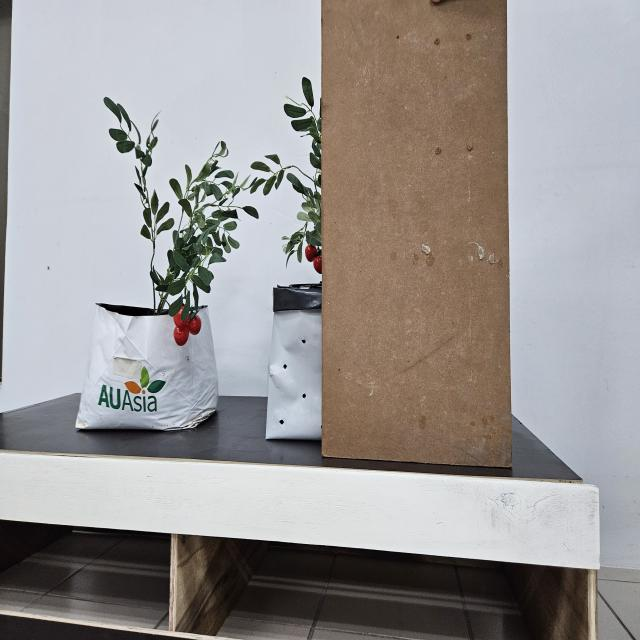Obstacle: (320, 0, 514, 479)
Soilbag: (76, 304, 219, 434), (268, 292, 390, 441)
Tomato: (173, 309, 201, 346), (305, 244, 322, 274)
plant: (103, 97, 265, 347), (241, 77, 335, 275)
